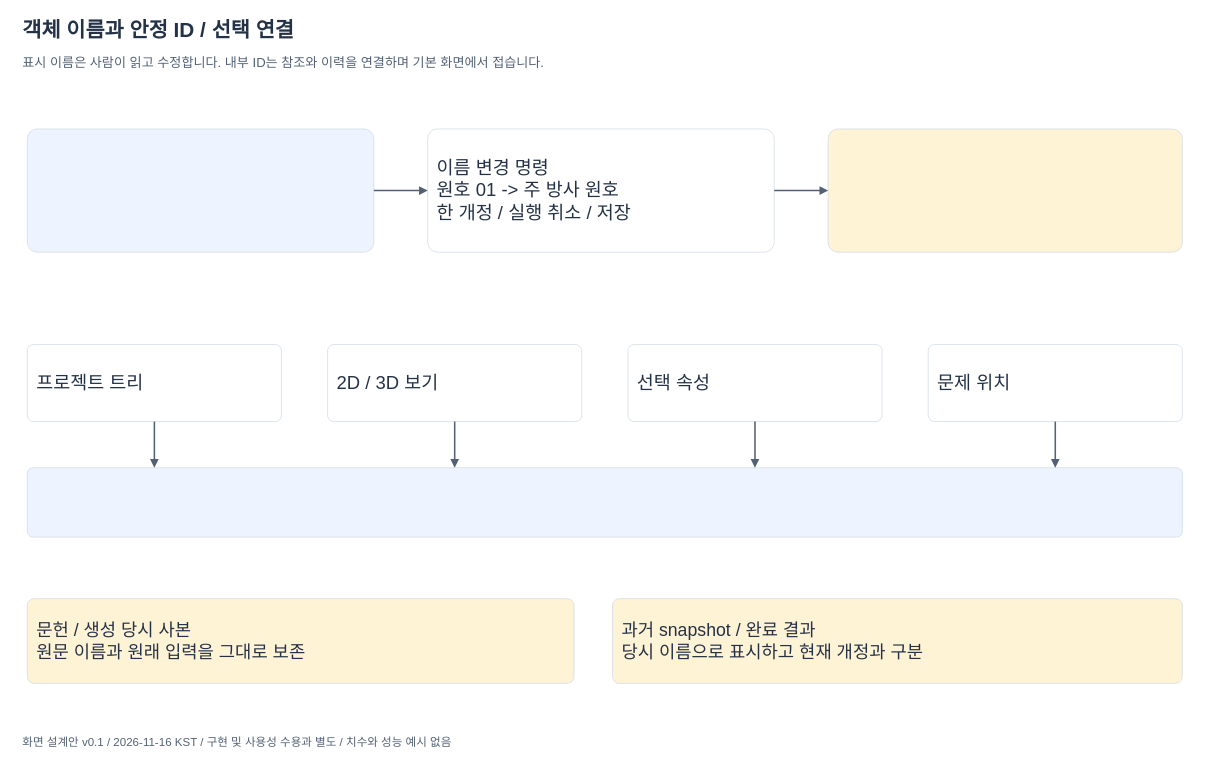
Some shapes in this 1209 by 767 pixel diagram are drawn without their labels. Each missing label, with the centre of its shape:
"변하지 않는 관계 레이어 / net / 포트 참조 수식 변수와 형상 치수" belongs at pixel 1004 190.
"선택 문맥 = 프로젝트 + 개정 + 객체 ID + 부분 역할 / 동일 문맥만 동기화" belongs at pixel 604 502.
"현재 객체 표시 이름: 주 방사 원호 불변 ID: 내부 상세에서 확인" belongs at pixel 200 190.
